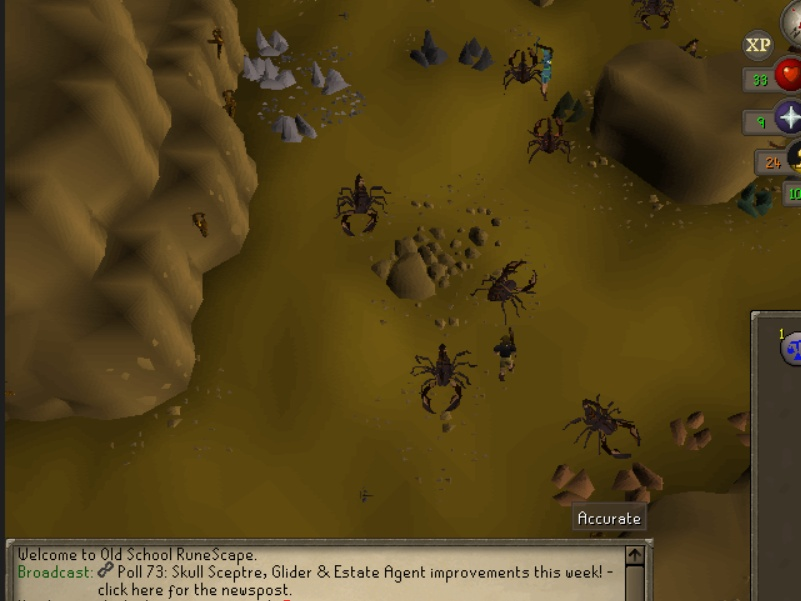adamant: (731, 180, 781, 219)
coal: (549, 85, 589, 127)
copper: (666, 399, 717, 453), (614, 453, 665, 507), (547, 456, 598, 510)
tin: (269, 109, 321, 147), (307, 56, 352, 96), (252, 25, 293, 57), (258, 60, 299, 92), (238, 51, 268, 79)
